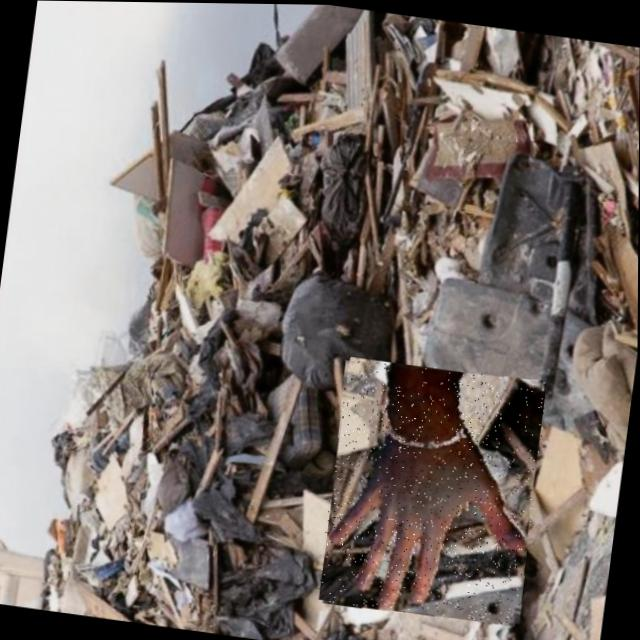Person in Rubble: (317, 353, 549, 625)
